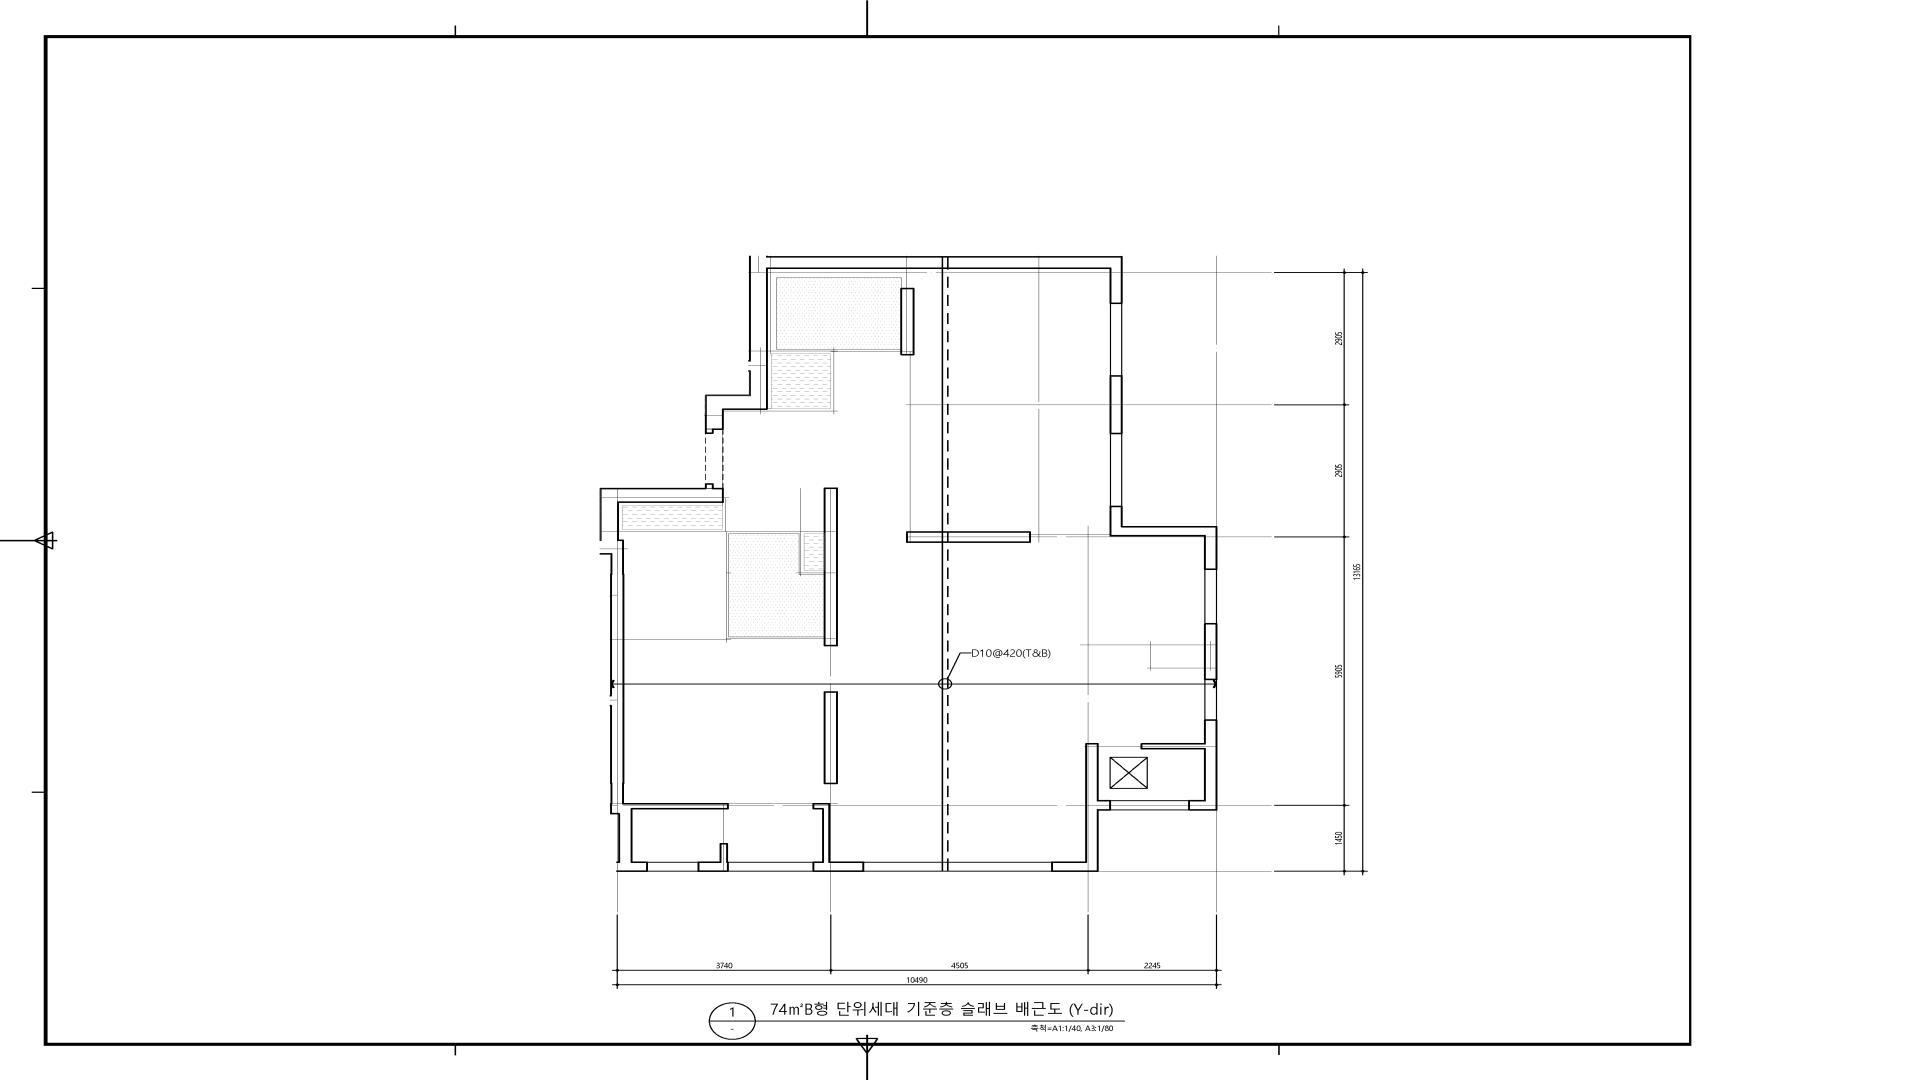wall: (769, 256, 1122, 269), (611, 555, 625, 803), (749, 256, 767, 394), (823, 488, 839, 646), (1085, 742, 1098, 861), (620, 488, 724, 502), (906, 531, 1031, 543), (824, 691, 839, 785), (1204, 719, 1217, 799), (1122, 526, 1217, 537), (901, 287, 915, 356), (600, 488, 618, 539), (1109, 375, 1122, 434), (1204, 624, 1217, 680), (704, 394, 724, 430), (724, 394, 767, 410), (618, 815, 633, 861), (633, 803, 729, 810), (812, 861, 865, 872), (1051, 861, 1098, 872), (822, 810, 831, 861), (1109, 269, 1122, 305), (1204, 537, 1217, 570), (1109, 505, 1122, 537), (1141, 742, 1204, 749), (600, 539, 624, 555), (698, 861, 729, 872), (616, 861, 647, 872), (1188, 800, 1217, 811), (611, 803, 633, 815), (720, 843, 728, 861), (1098, 800, 1112, 811), (812, 803, 831, 810), (704, 483, 713, 488), (704, 430, 713, 434)
